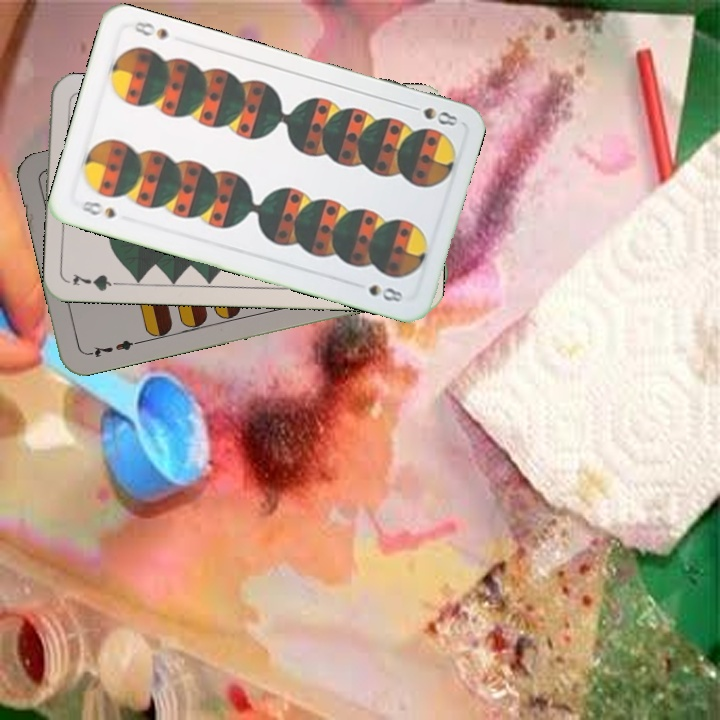E7: (83, 335, 142, 360)
G7: (69, 269, 127, 293)
S8: (403, 100, 460, 129), (76, 196, 119, 221)
